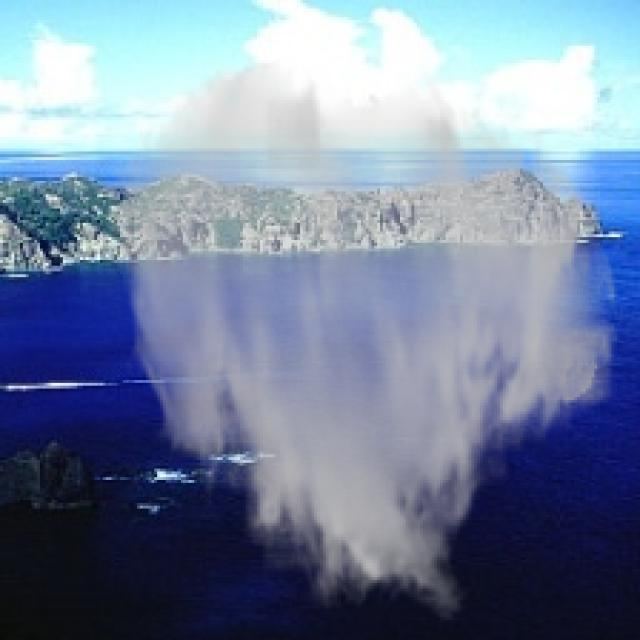Smoke: (106, 57, 623, 623)
